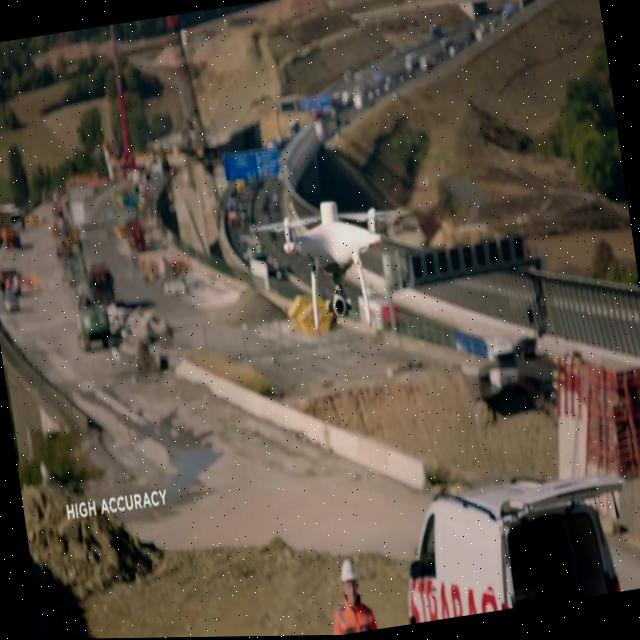drone: (251, 186, 424, 345)
